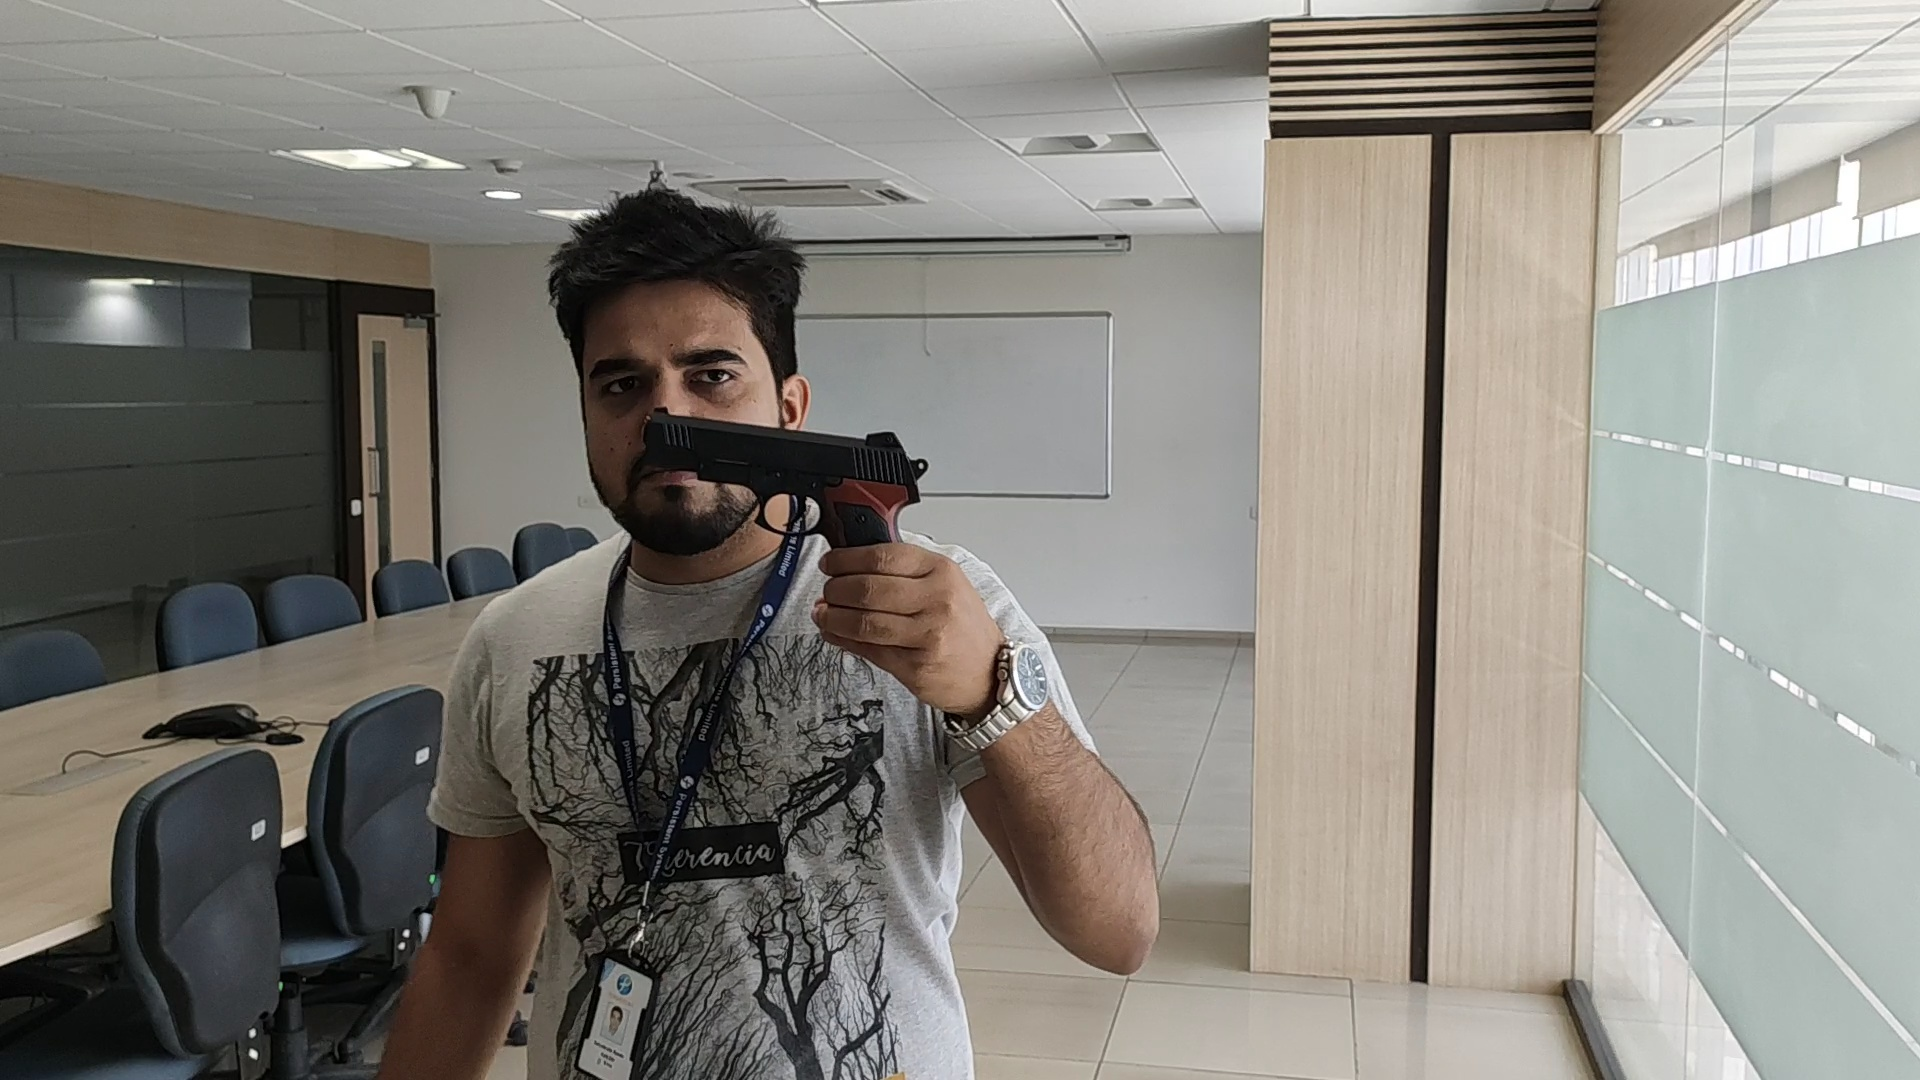gun: (642, 406, 930, 541)
